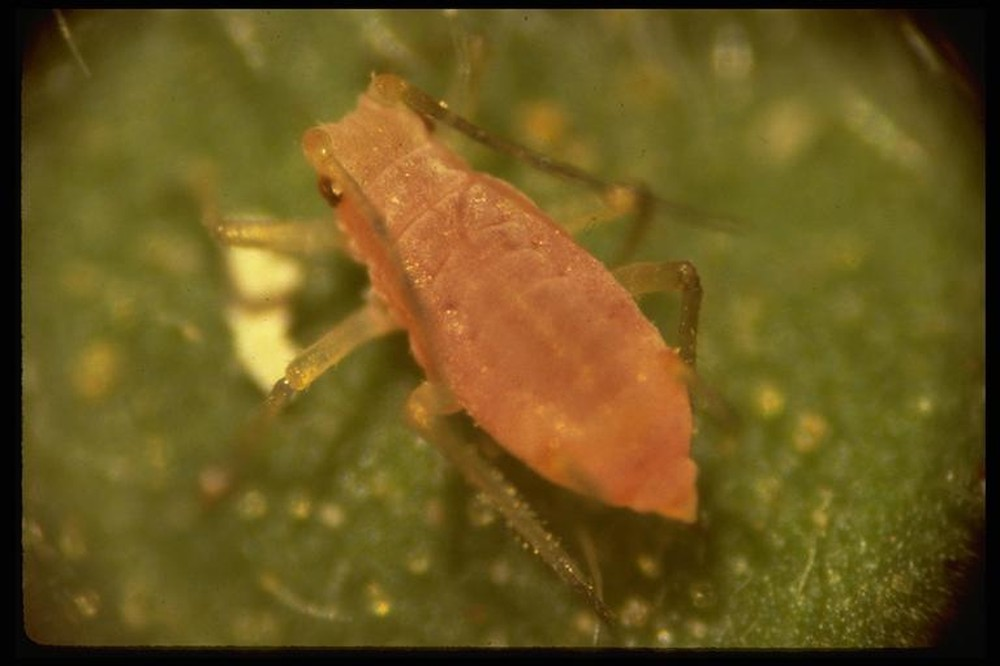Pulgon: (205, 53, 806, 634)
